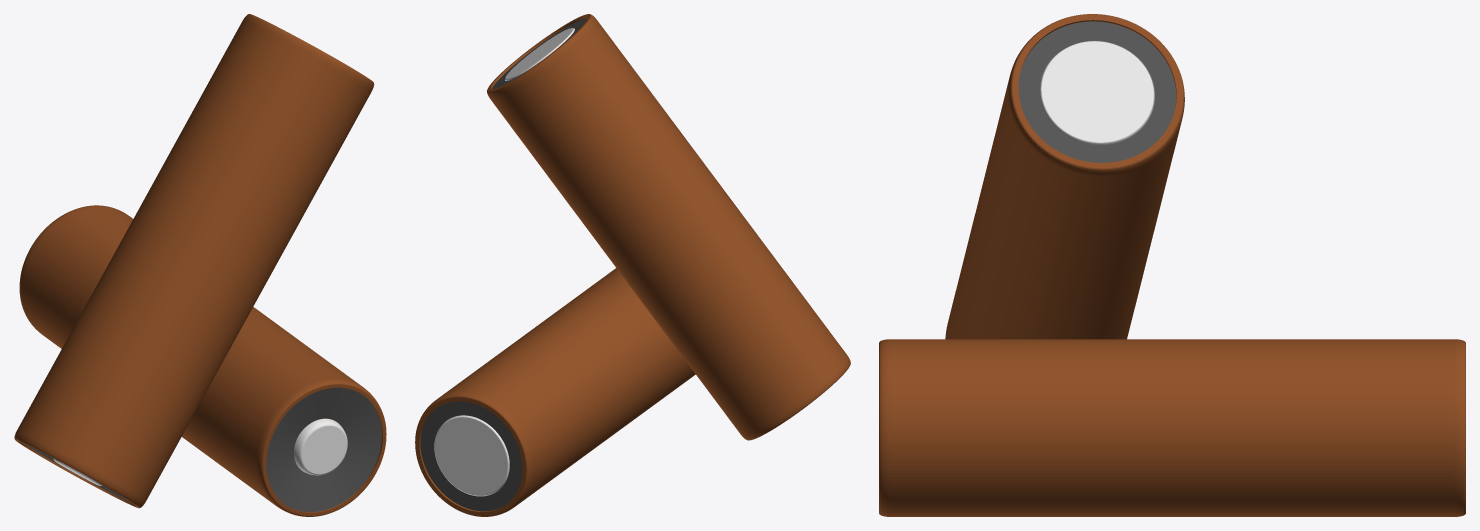
Rendered from Batteries.fbx.
3 views of the same model, side by side, from view 1: azimuth 30°, elevation 25°; view 2: azimuth 150°, elevation 25°; view 3: azimuth 270°, elevation 25° (orthographic). The views are drawn at different scales.
Visible parts, largest first — view 1: Cylinder.001, Cylinder; view 2: Cylinder.001, Cylinder; view 3: Cylinder, Cylinder.001.
Part boxes in pixels (x1,y1,x2,y2): Cylinder.001: (14, 14, 374, 508); Cylinder: (19, 205, 386, 516); Cylinder.001: (487, 14, 850, 440); Cylinder: (415, 268, 695, 516); Cylinder: (879, 339, 1465, 516); Cylinder.001: (945, 14, 1184, 339).
Size of the model in its own units: 170 by 192 by 200.
